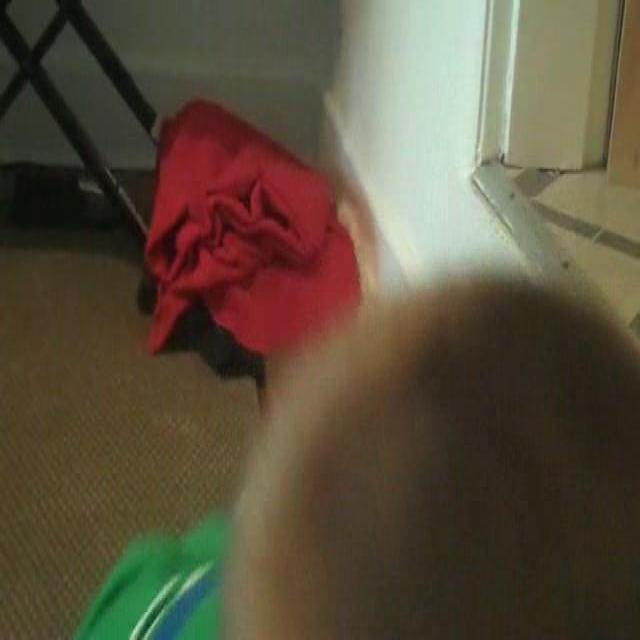other: (144, 110, 356, 336)
